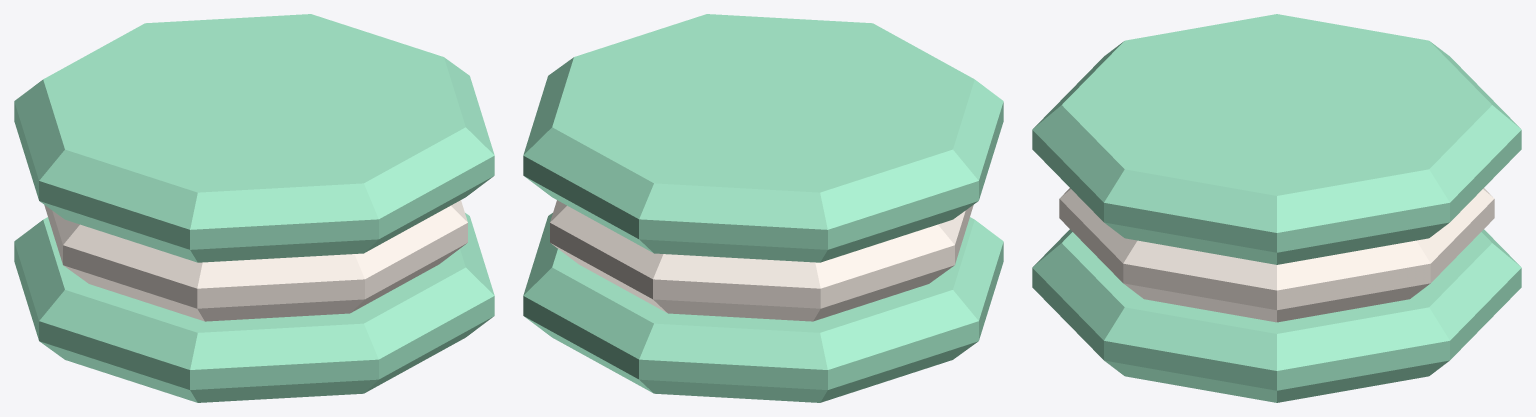
Rendered from Macaron.fbx.
3 views of the same model, side by side, from view 1: azimuth 30°, elevation 25°; view 2: azimuth 150°, elevation 25°; view 3: azimuth 270°, elevation 25° (orthographic).
Parts seen in each view (by area): view 1: Macaron; view 2: Macaron; view 3: Macaron.
Boxes of the visible parts, box(x1,y1,x2,y2) form: Macaron: box(14, 14, 494, 402); Macaron: box(523, 14, 1003, 402); Macaron: box(1032, 14, 1521, 402).
Bounding box in the file's own units: 0.9 × 0.42 × 0.9.
1 material, 1 textured.
